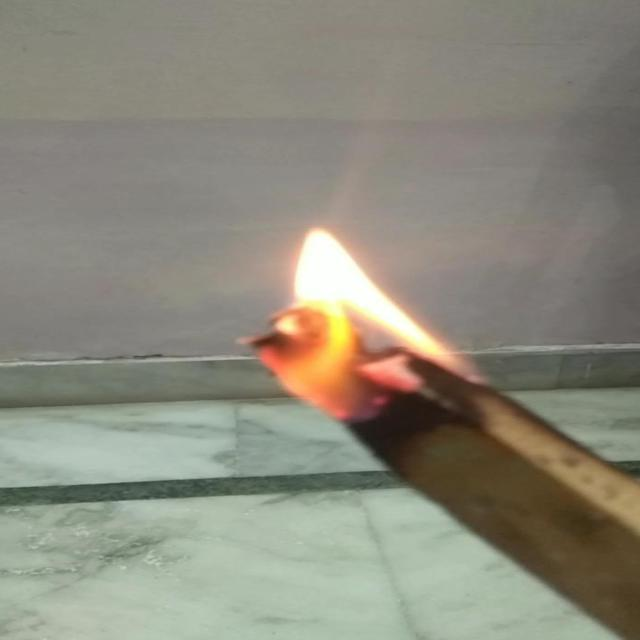smoke: (238, 216, 460, 417)
